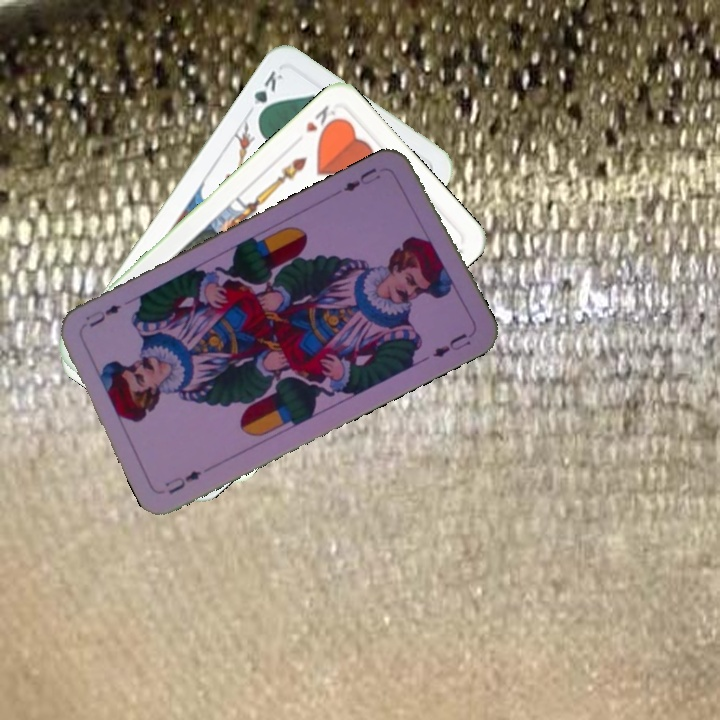EU: (339, 163, 384, 195), (161, 466, 205, 497)
GK: (243, 66, 286, 122)
HK: (301, 101, 338, 135)
